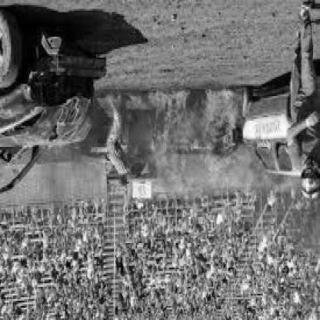Fire: (98, 84, 270, 192)
